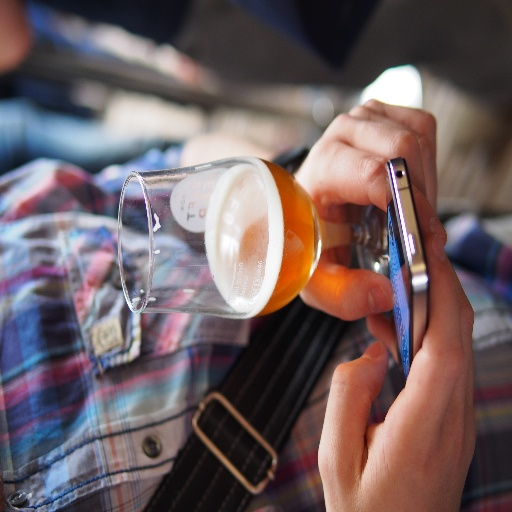hand: (315, 234, 477, 511), (292, 98, 448, 323)
